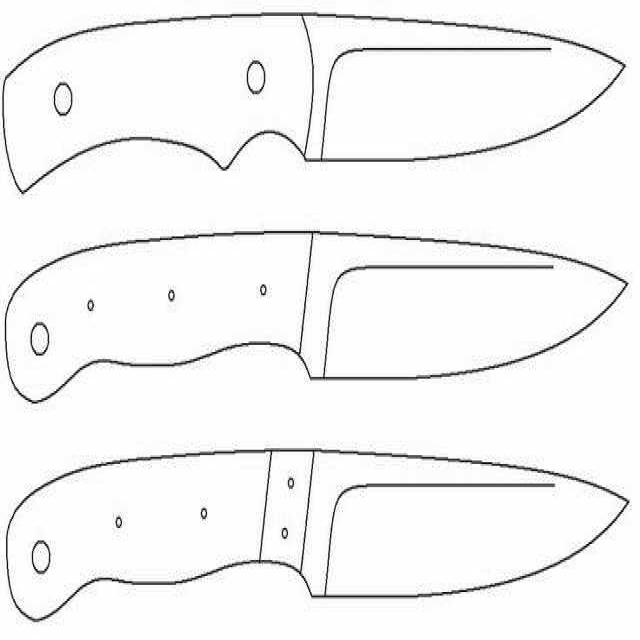Knife: (0, 0, 640, 210)
